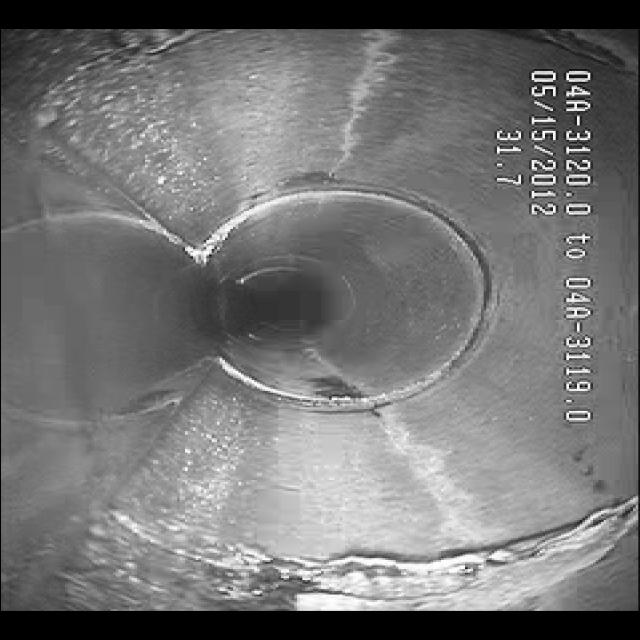Crack: (316, 41, 418, 174)
Fracture: (139, 503, 622, 601)
